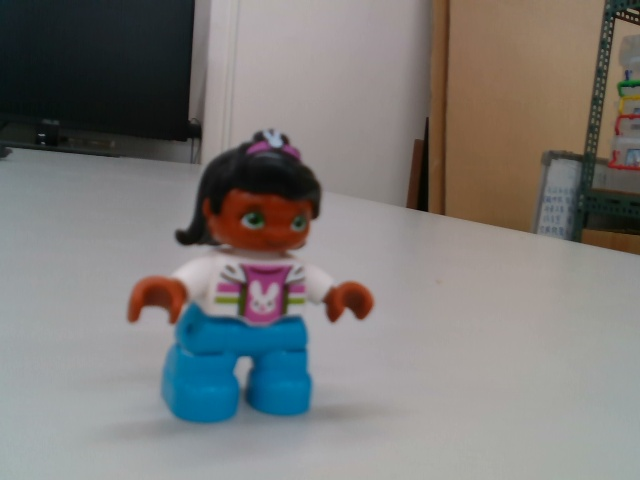people: (125, 126, 378, 424)
